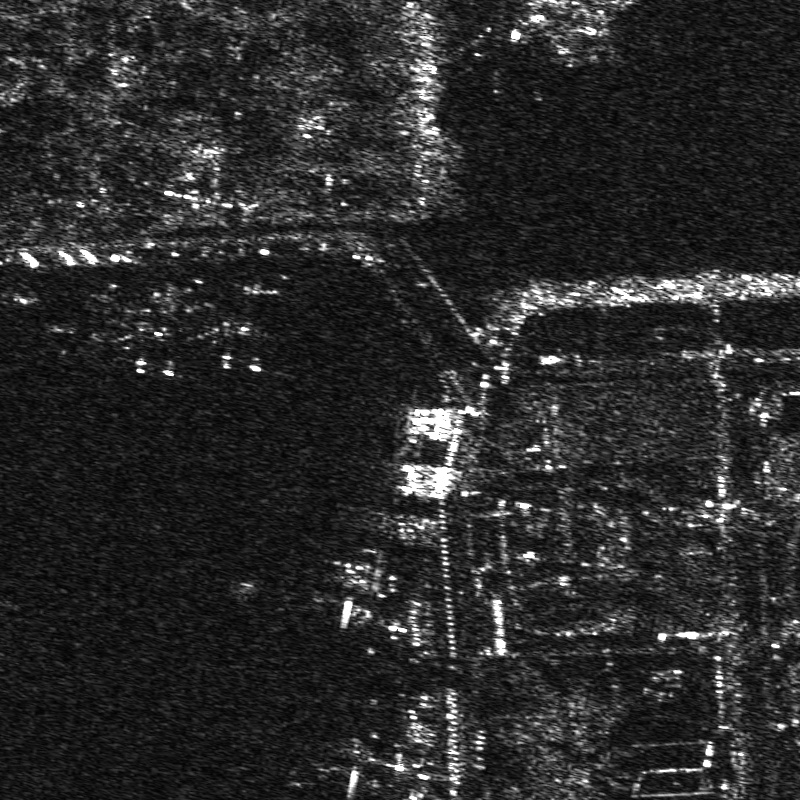ARJ21: (109, 292, 175, 379)
Boeing737: (189, 281, 280, 376)
